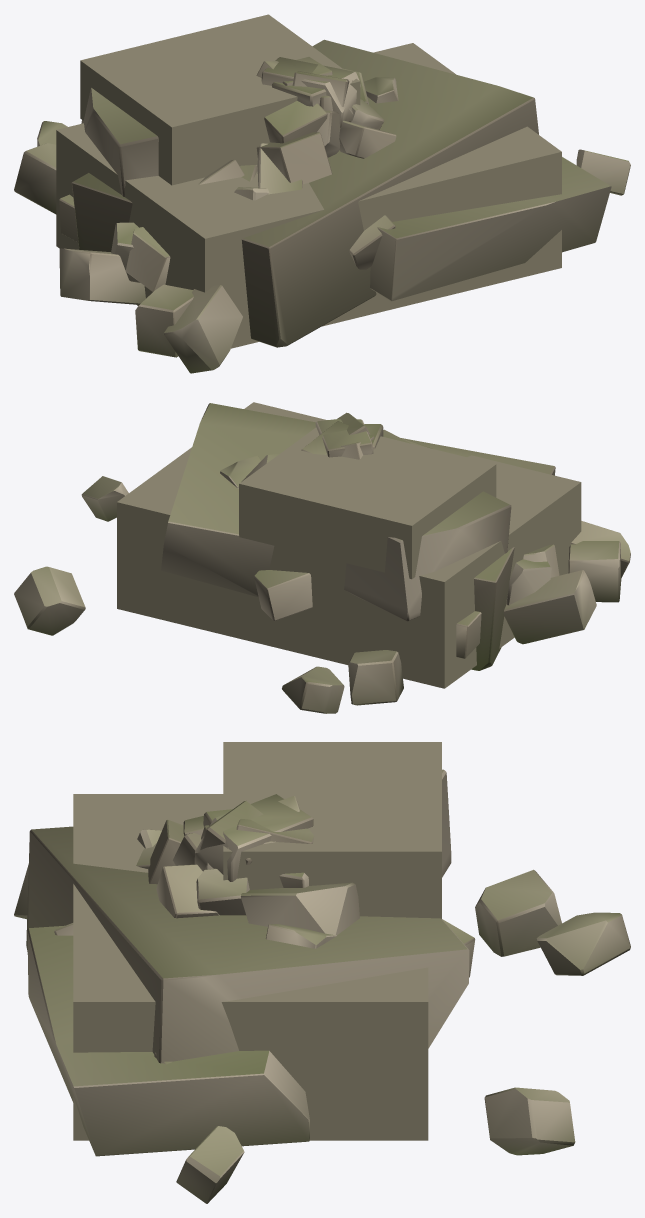
Rendered from dome_heap.glb.
3 renders of one model, top to bottom at view 1: azimuth 30°, elevation 25°; view 2: azimuth 150°, elevation 25°; view 3: azimuth 270°, elevation 25°, orthographic. The views are drawn at different scales.
Visible parts, largest first — view 1: dome_heap, dome_heap_far; view 2: dome_heap_far, dome_heap; view 3: dome_heap, dome_heap_far.
Boxes of the visible parts, box(x1,y1,x2,y2) form: dome_heap: box(14, 39, 630, 373); dome_heap_far: box(56, 14, 561, 348); dome_heap_far: box(117, 402, 581, 688); dome_heap: box(14, 403, 630, 713); dome_heap: box(14, 769, 630, 1203); dome_heap_far: box(73, 742, 441, 1140).
Size of the model in its own units: 28.1 by 9.53 by 22.57.
